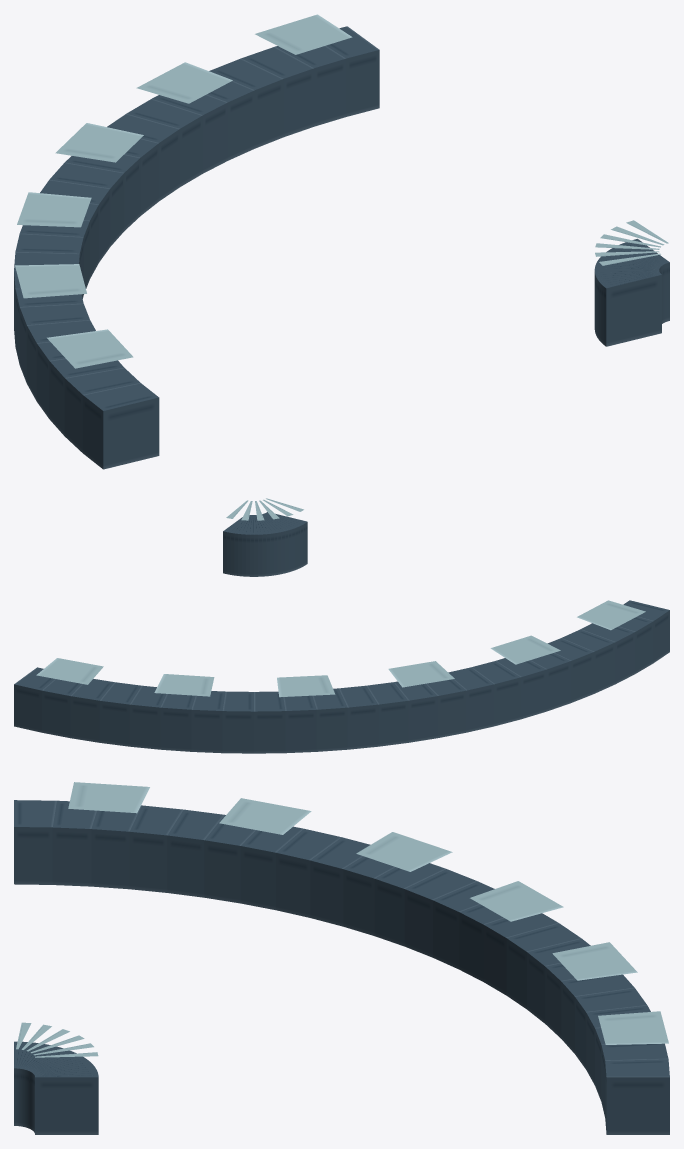
File: sc_curve_right.obj
3 renders of one model, top to bottom at view 1: azimuth 30°, elevation 25°; view 2: azimuth 150°, elevation 25°; view 3: azimuth 270°, elevation 25°, orthographic. The views are drawn at different scales.
Size of the model in its own units: 19.38 by 2.5 by 19.38.
1 material, 1 textured.
